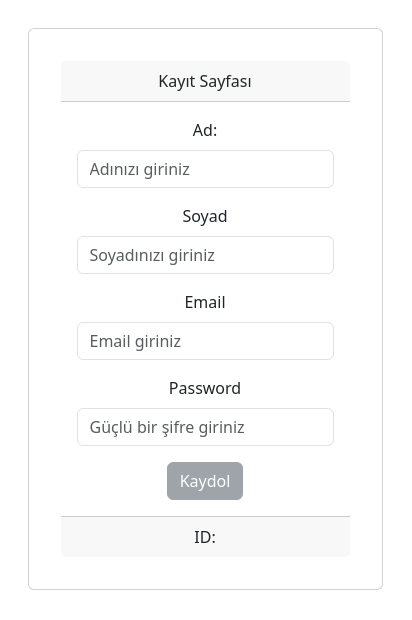
Test: Register Page › Error Messages › Email input throws error for emre@wit.
Type "ahmet@wit." into the field with test id "email-input" at (206, 341), box [77,322,334,360]
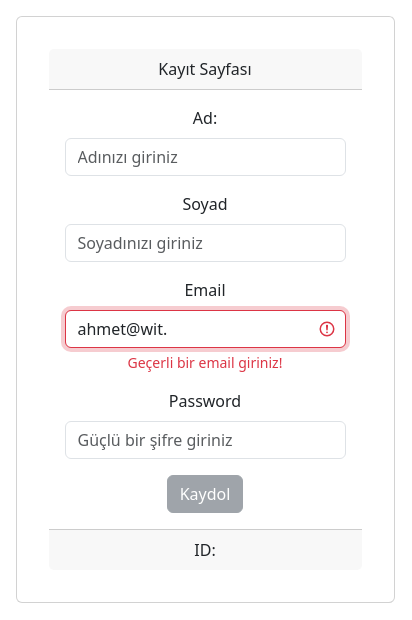
Now the text "Geçerli bir email giriniz!" is shown, box [128,352,282,372]
